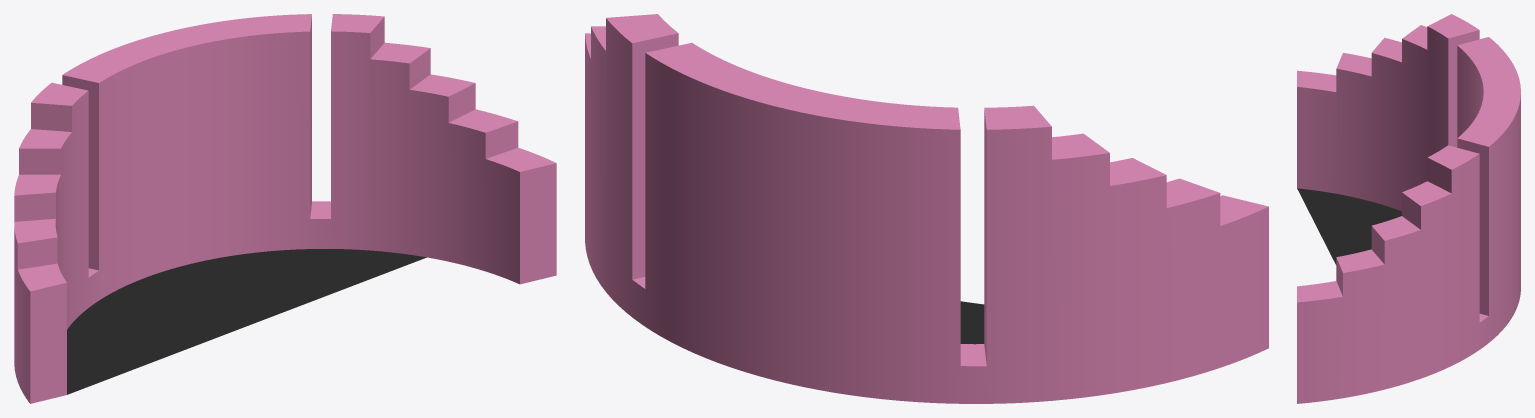
The model's file is Wall.fbx.
3 views of the same model, side by side, from view 1: azimuth 30°, elevation 25°; view 2: azimuth 150°, elevation 25°; view 3: azimuth 270°, elevation 25° (orthographic). The views are drawn at different scales.
Parts seen in each view (by area): view 1: Wall; view 2: Wall; view 3: Wall.
Part boxes in pixels (box(x1,y1,x2,y2)): Wall: box(14, 14, 556, 403); Wall: box(585, 14, 1268, 403); Wall: box(1297, 14, 1520, 403).
Bounding box in the file's own units: 147 × 58 × 59.98.
